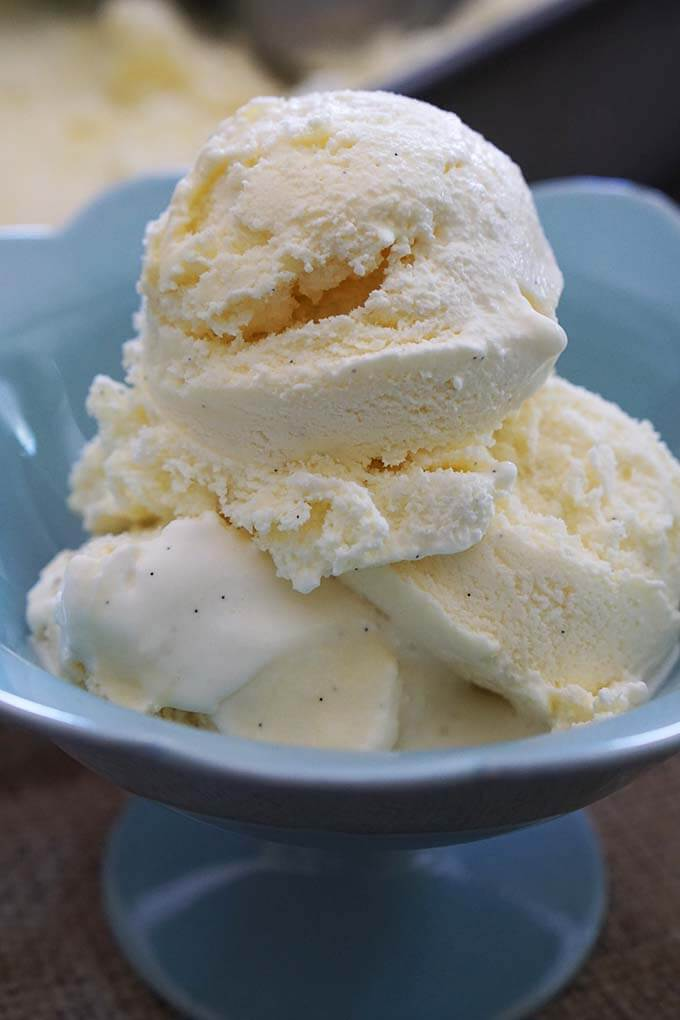ice-cream: (140, 91, 570, 471), (32, 382, 413, 753), (358, 379, 676, 730)
